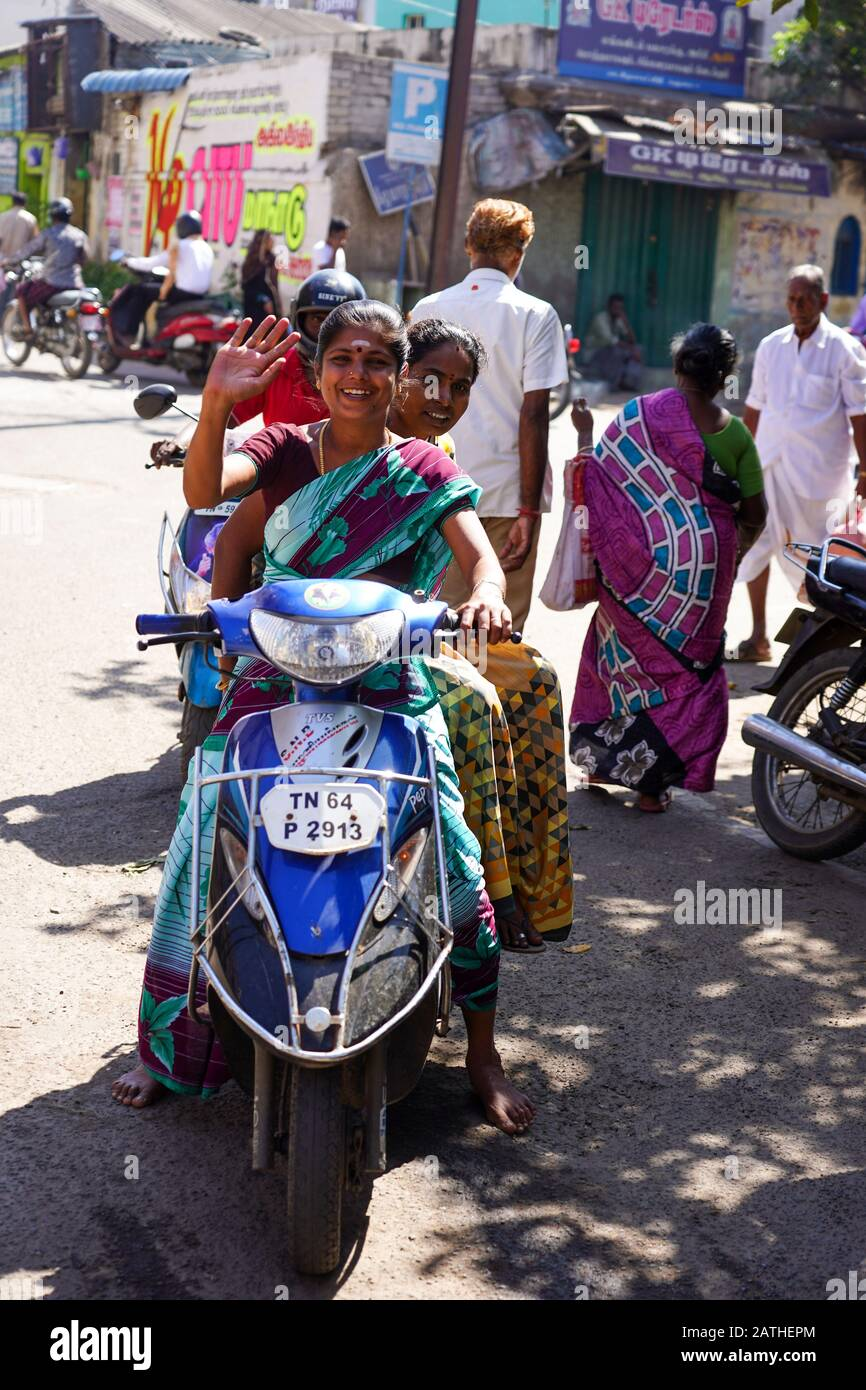motor: (140, 567, 526, 1268)
no helmet: (315, 300, 398, 425), (403, 320, 481, 439)
number: (260, 782, 385, 852)
